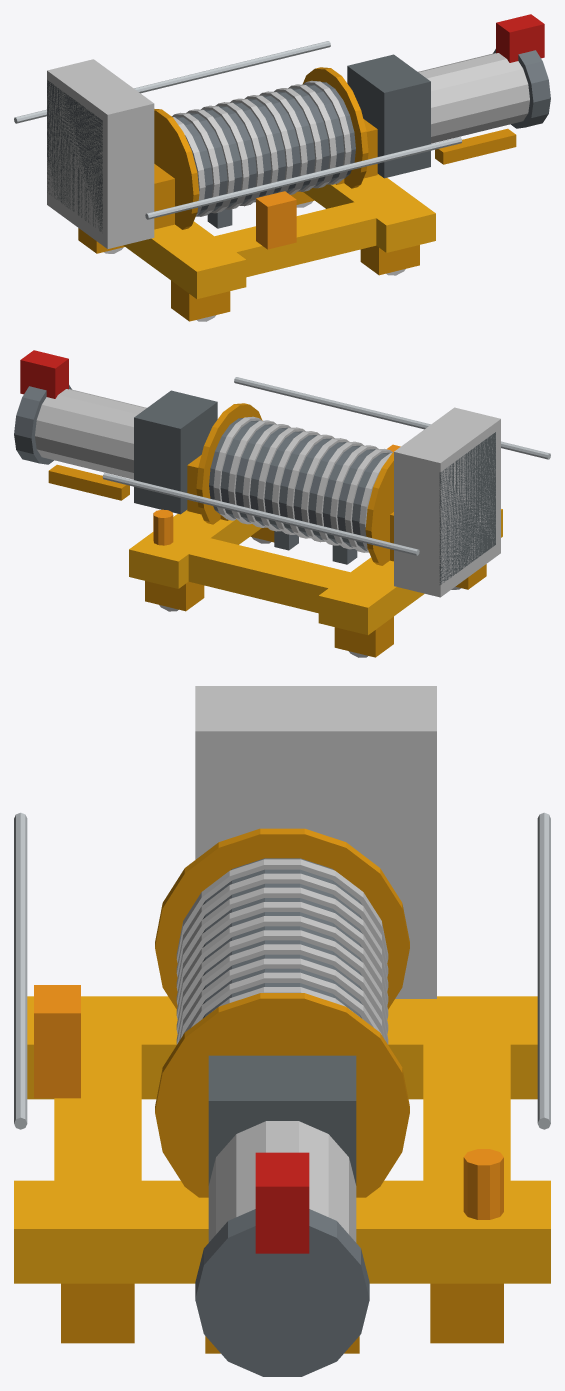
File: body.obj
3 views of the same model, one above another, from view 1: azimuth 30°, elevation 25°; view 2: azimuth 150°, elevation 25°; view 3: azimuth 270°, elevation 25° (orthographic). The views are drawn at different scales.
Bounding box in the file's own units: 3.13 × 1.32 × 1.6.
